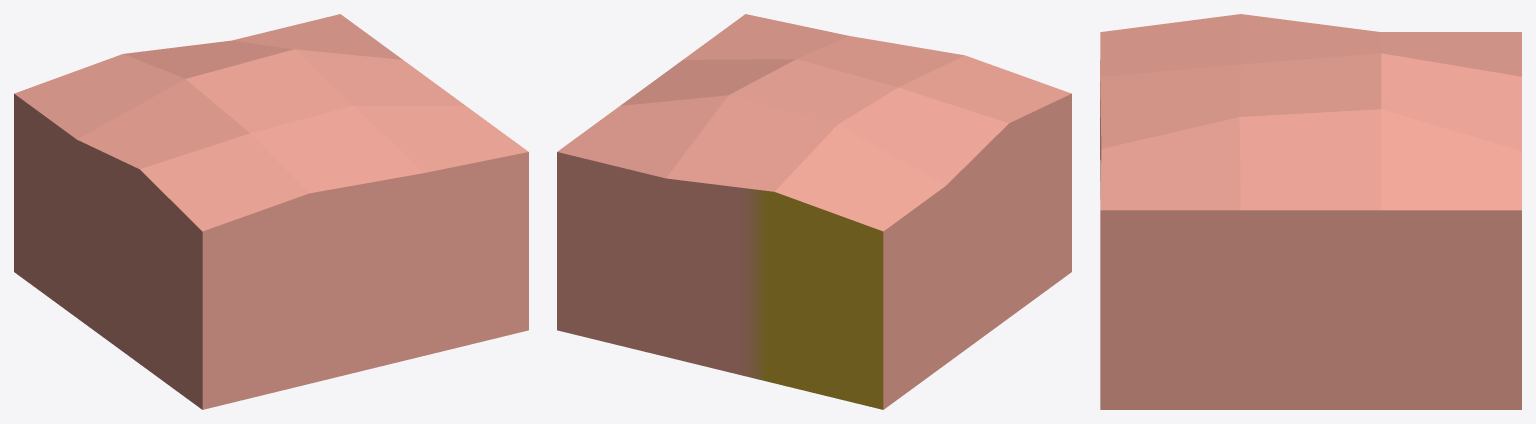
The model's file is DesertBoxFillerYellow.glb.
3 renders of one model, left to right at view 1: azimuth 30°, elevation 25°; view 2: azimuth 150°, elevation 25°; view 3: azimuth 270°, elevation 25°, orthographic. The views are drawn at different scales.
Visible parts, largest first — view 1: DesertBoxFilleryellow; view 2: DesertBoxFilleryellow; view 3: DesertBoxFilleryellow.
Part boxes in pixels (x1,y1,x2,y2): DesertBoxFilleryellow: [14, 14, 528, 409]; DesertBoxFilleryellow: [557, 14, 1071, 409]; DesertBoxFilleryellow: [1100, 14, 1521, 409].
Size of the model in its own units: 1.04 by 0.6545 by 1.04.
1 material, 1 textured.
